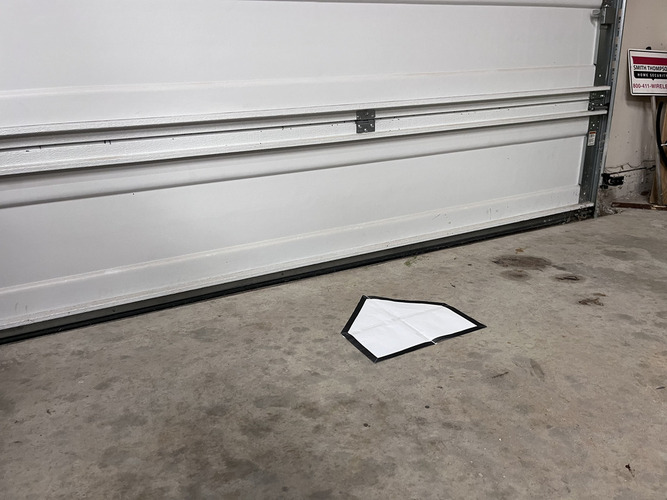homeplate: (340, 293, 487, 363)
